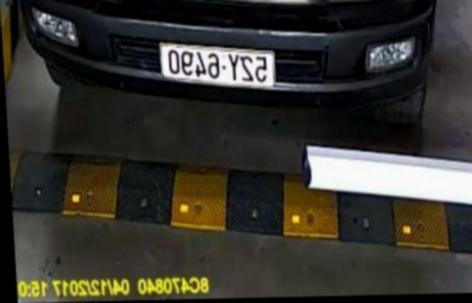License_Plate: (158, 39, 278, 90)
